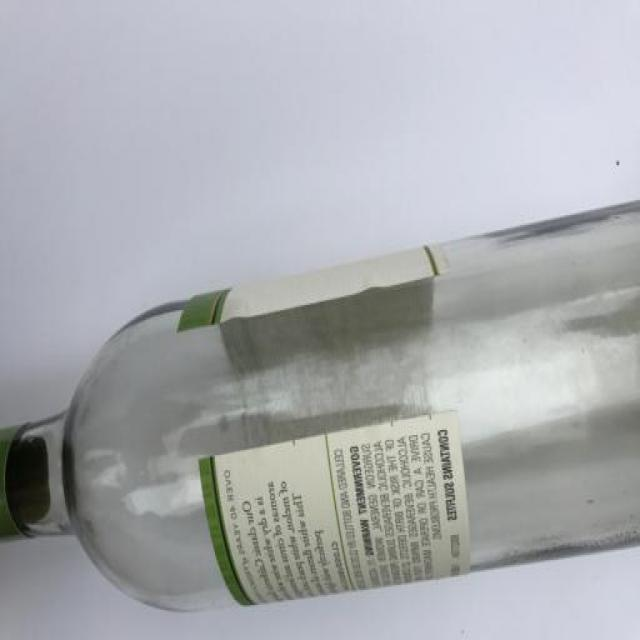glass: (0, 193, 640, 612)
